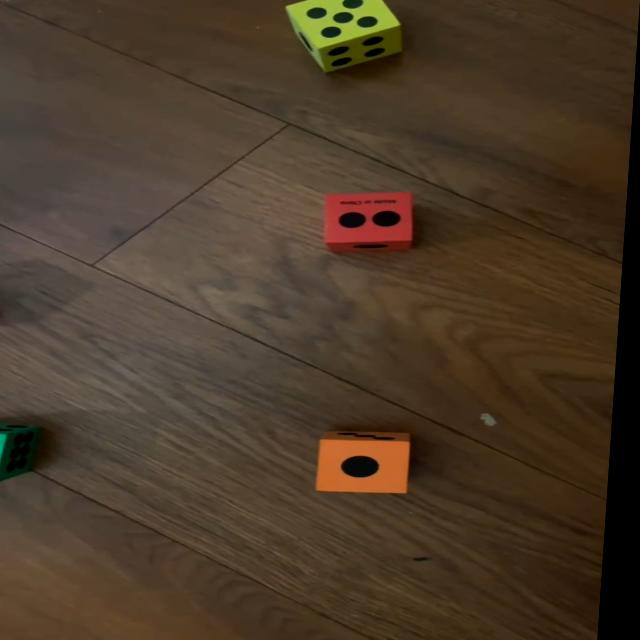cube: (324, 191, 421, 251), (0, 422, 42, 483)
